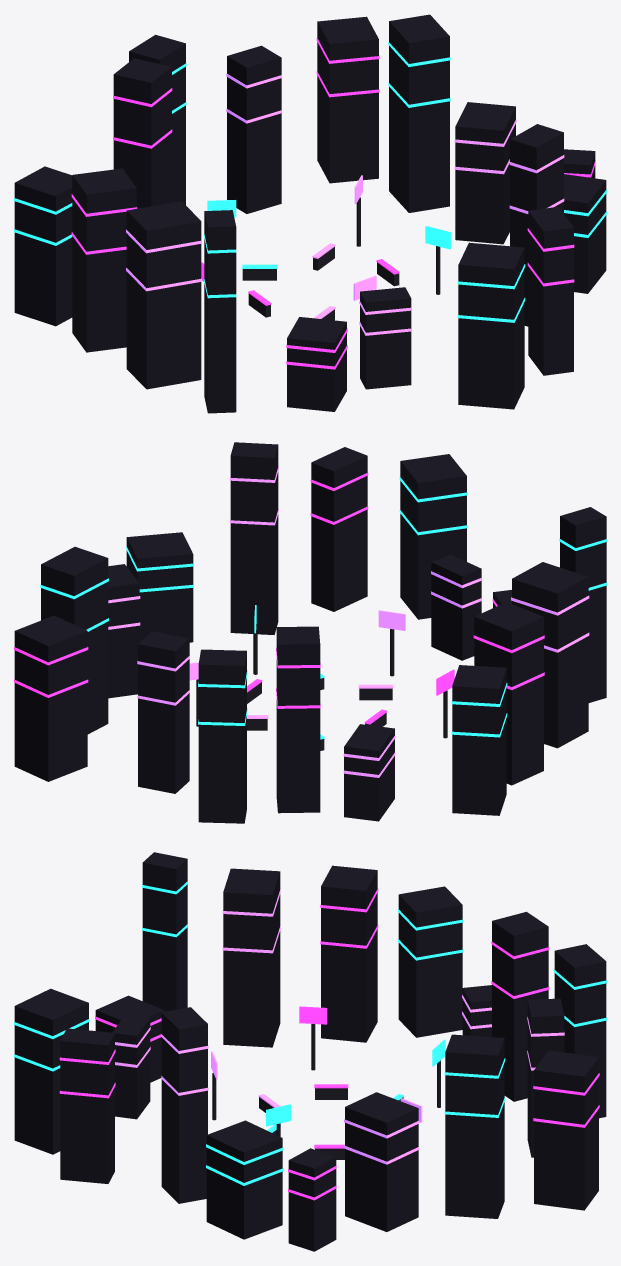
The picture shows the model from 3 angles, top to bottom: view 1: azimuth 30°, elevation 25°; view 2: azimuth 150°, elevation 25°; view 3: azimuth 270°, elevation 25°; orthographic projection. The views are drawn at different scales.
Visible parts, largest first — view 1: tower_8, tower_16, tower_4, tower_9, tower_15, tower_10, tower_14, tower_12, tower_17, tower_3, tower_7, tower_2 (+7 smaller); view 2: tower_15, tower_2, tower_8, tower_3, tower_13, tower_4, tower_12, tower_9, tower_10, tower_14, tower_16, tower_1 (+7 smaller); view 3: tower_16, tower_8, tower_15, tower_9, tower_17, tower_10, tower_2, tower_3, tower_4, tower_1, tower_12, tower_7 (+8 smaller).
Part boxes in pixels (bbox=[...]): tower_8: bbox=[126, 201, 201, 389]; tower_16: bbox=[388, 14, 450, 212]; tower_4: bbox=[457, 242, 525, 409]; tower_9: bbox=[71, 168, 137, 352]; tower_15: bbox=[316, 16, 379, 183]; tower_10: bbox=[14, 166, 72, 326]; tower_14: bbox=[226, 45, 281, 213]; tower_12: bbox=[113, 58, 172, 208]; tower_17: bbox=[454, 102, 516, 244]; tower_3: bbox=[527, 207, 574, 375]; tower_7: bbox=[204, 210, 236, 413]; tower_2: bbox=[509, 124, 564, 326]; tower_15: bbox=[14, 615, 88, 781]; tower_2: bbox=[230, 442, 278, 634]; tower_8: bbox=[511, 562, 589, 748]; tower_3: bbox=[310, 447, 368, 611]; tower_13: bbox=[198, 649, 247, 823]; tower_4: bbox=[399, 454, 467, 619]; tower_12: bbox=[276, 626, 320, 813]; tower_9: bbox=[473, 602, 544, 785]; tower_10: bbox=[451, 665, 507, 815]; tower_14: bbox=[137, 631, 189, 793]; tower_16: bbox=[40, 546, 108, 734]; tower_1: bbox=[126, 532, 193, 642]; tower_16: bbox=[444, 1034, 505, 1218]; tower_8: bbox=[222, 868, 280, 1047]; tower_15: bbox=[533, 1050, 599, 1210]; tower_9: bbox=[320, 865, 378, 1042]; tower_17: bbox=[344, 1092, 419, 1231]; tower_10: bbox=[398, 886, 463, 1037]; tower_2: bbox=[161, 1007, 208, 1203]; tower_3: bbox=[59, 1028, 115, 1183]; tower_4: bbox=[14, 988, 89, 1154]; tower_1: bbox=[206, 1120, 283, 1239]; tower_12: bbox=[491, 911, 549, 1101]; tower_7: bbox=[142, 852, 187, 1011].
Size of the model in its own units: 22.45 by 7.77 by 23.36.
